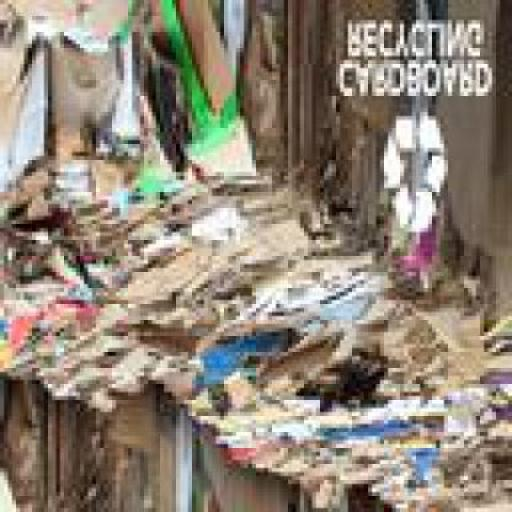cardboard: (0, 4, 510, 510), (32, 4, 377, 420), (153, 4, 448, 440), (0, 4, 313, 384), (0, 3, 284, 227), (424, 4, 508, 324), (0, 391, 158, 511), (155, 396, 300, 511), (302, 480, 344, 511)
